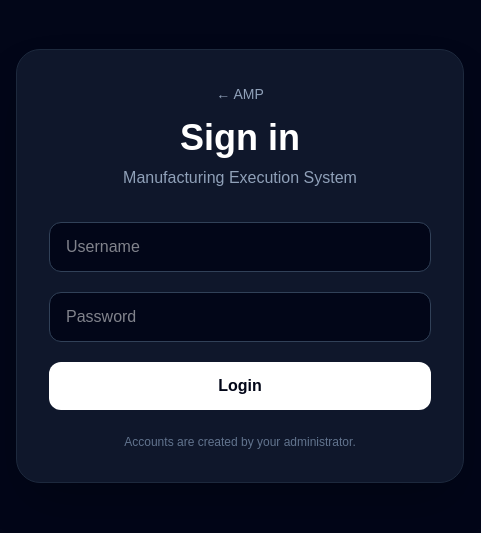
it: the manufacturer's door › shows the factory's message when BOTH doors refuse
The image size is (481, 533).
Type "someone" into the field.
click(240, 247); type("someone")  # box [49,222,431,272]
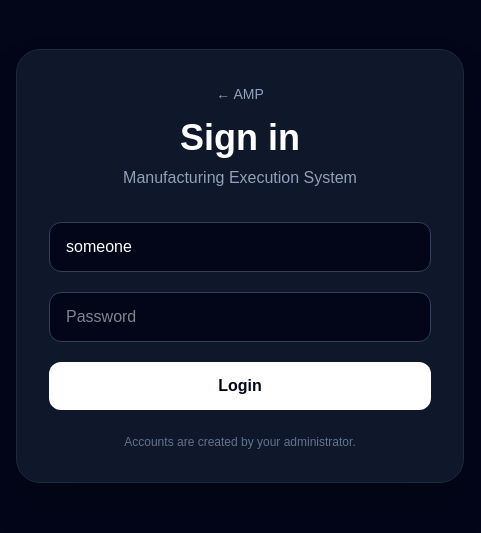
Type "secret" into the password field with placeholder "Password".
click(240, 317); type("secret")  # box [49,292,431,342]
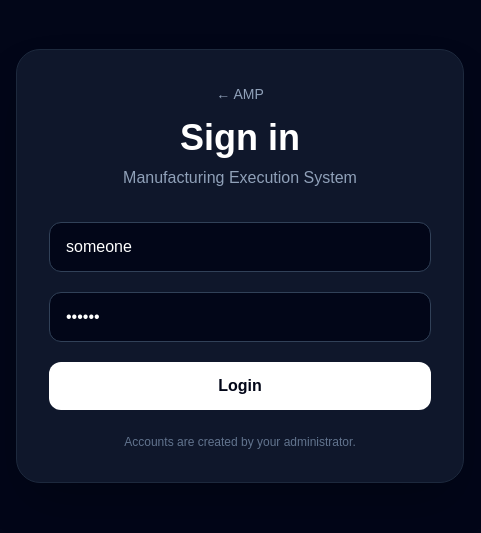
Click the button "Login".
click(240, 386)  # box [49,362,431,410]
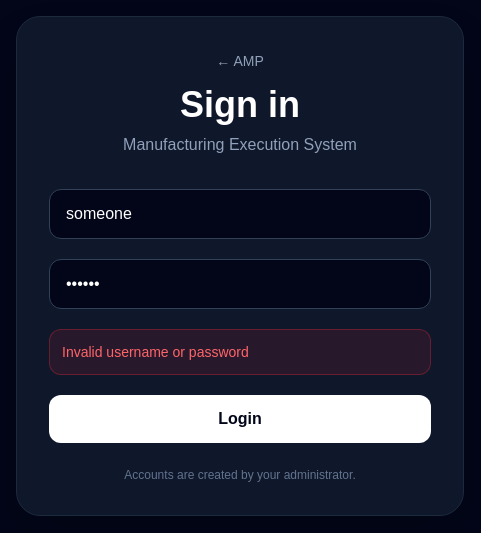
Check: the text "Invalid username or password" is shown, box [49,329,431,375]
